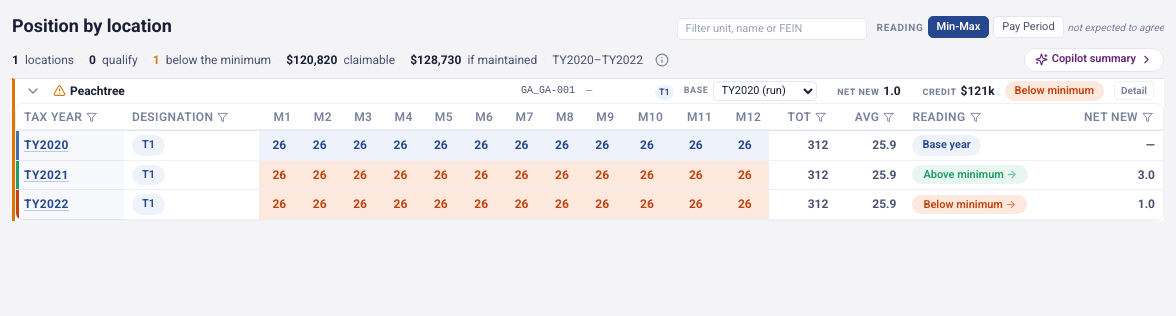
Scenario: the base-year picker (WI-21) › re-prices the block against the chosen year, greys what came before, and says it is not saved
The image size is (1176, 316).
Select "TY2021" in the dropdown named "Base year for GA_GA-001" at (764, 91), box [712, 81, 816, 101]
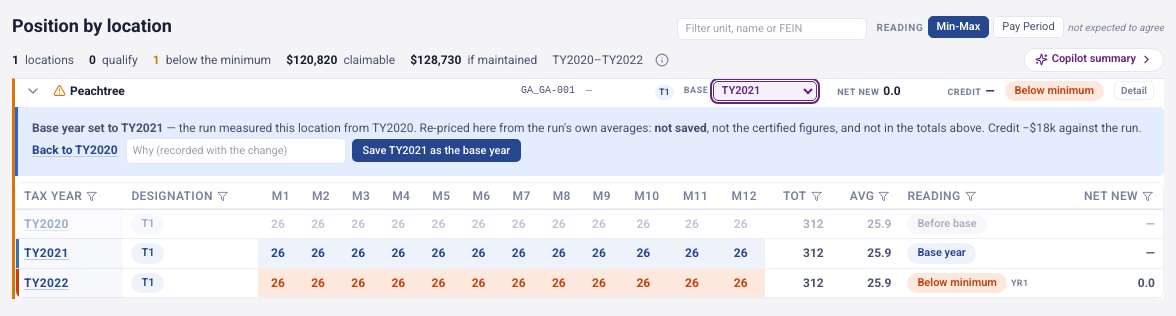
Expected: the message shows "Base year set to TY2021", [15, 107, 1164, 176]
Expected: the message shows "not saved", [654, 121, 707, 135]
Expected: the message shows "from TY2020", [15, 107, 1164, 176]
